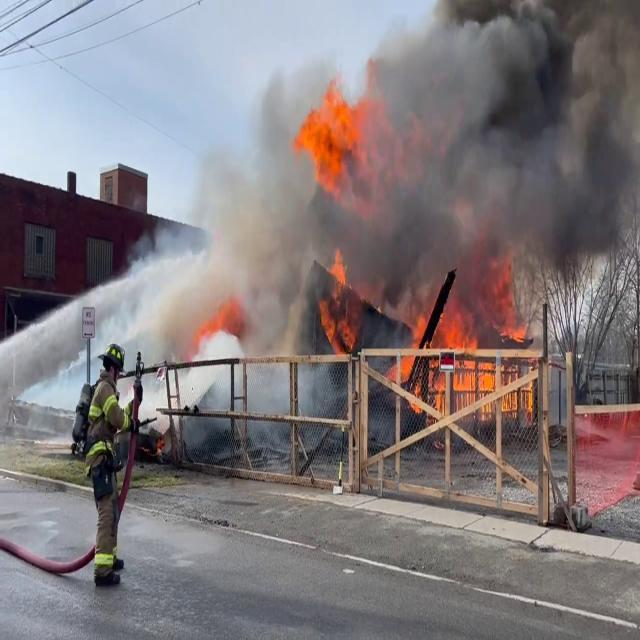Fire: (412, 304, 520, 431), (287, 72, 367, 192), (321, 246, 356, 361)
Smoke: (228, 0, 640, 299)
